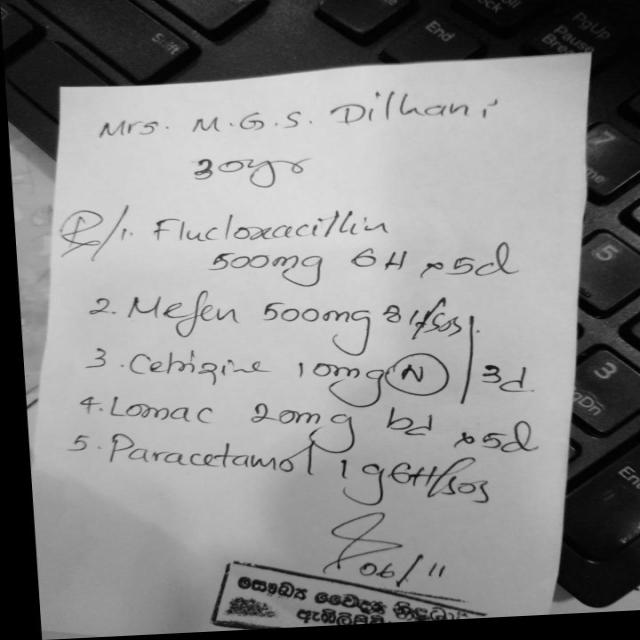Prescription: (94, 431, 510, 512), (95, 391, 539, 461), (144, 206, 531, 286), (118, 290, 462, 352), (118, 349, 446, 403)
